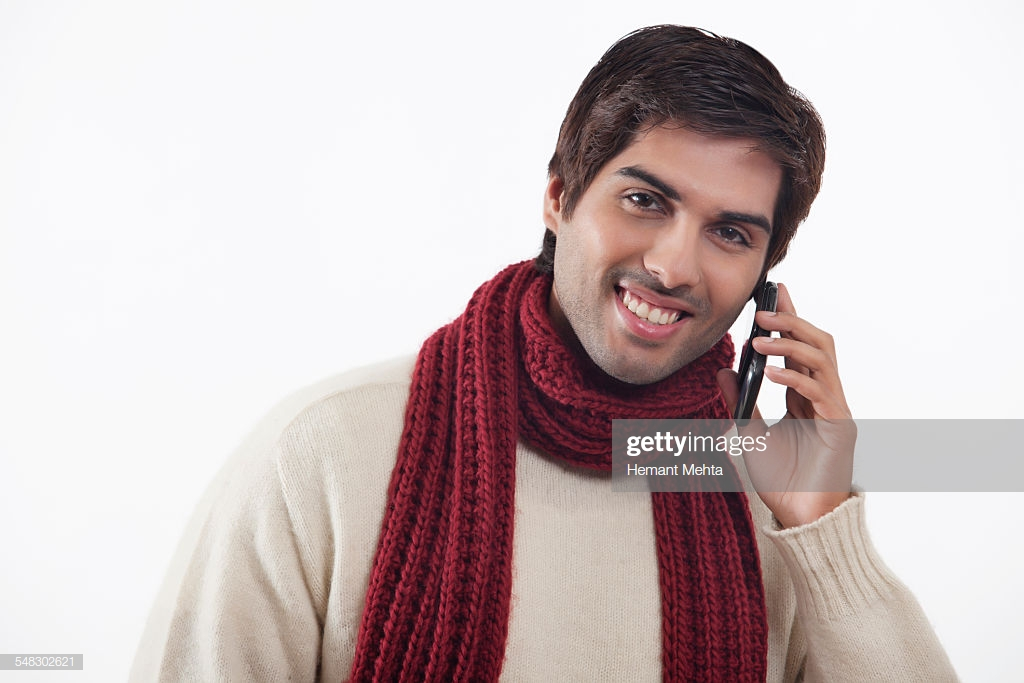phone: (734, 284, 779, 429)
talk: (572, 160, 856, 518)
